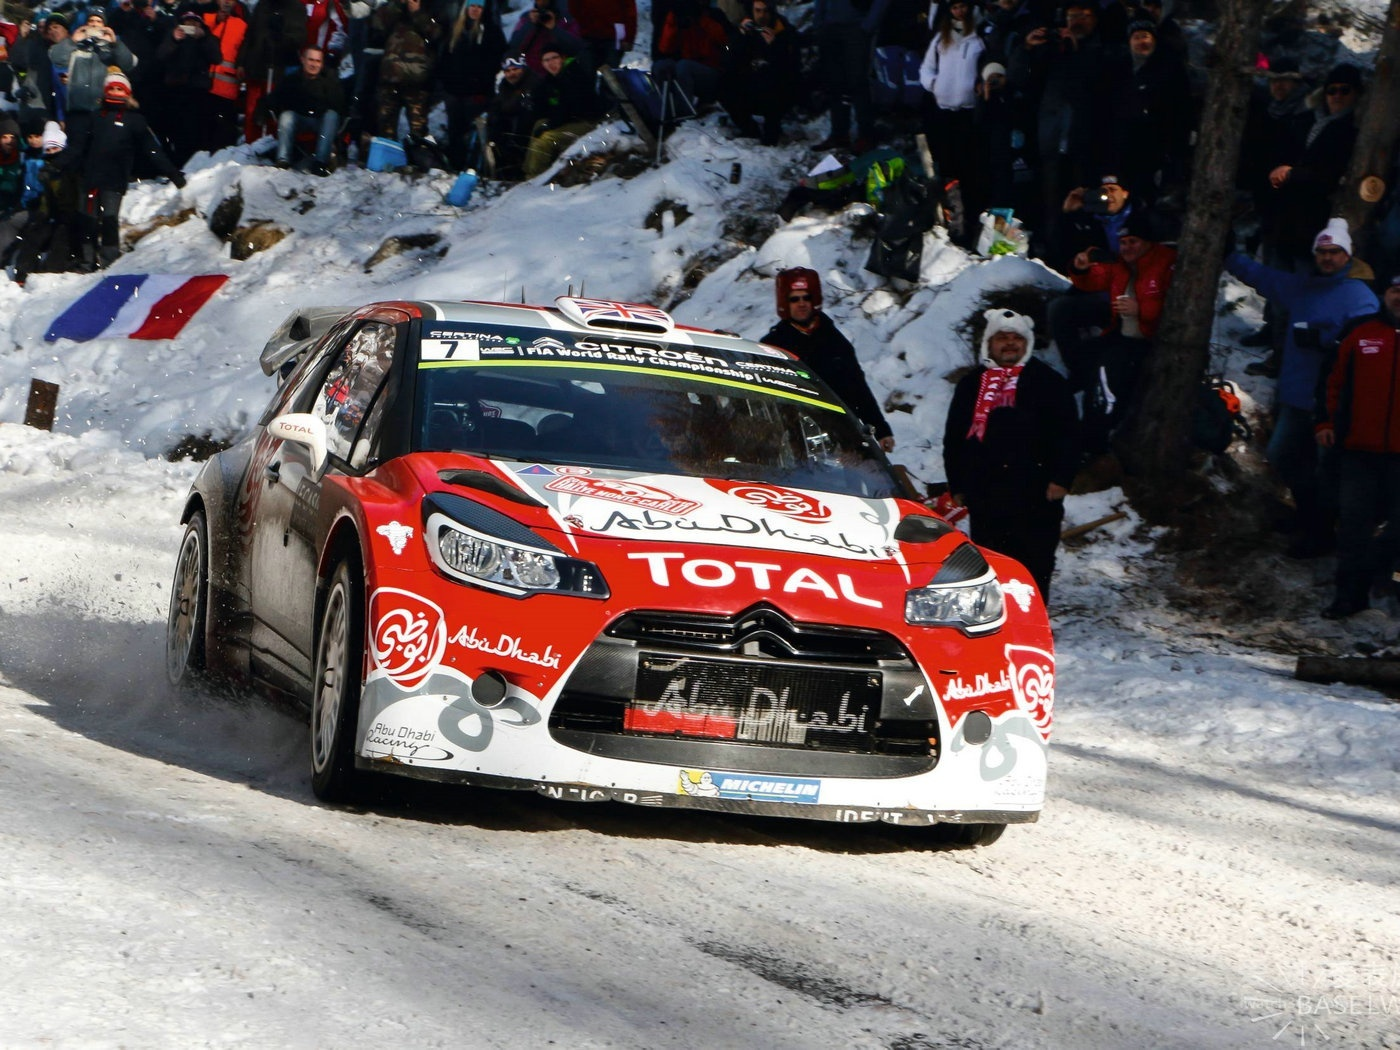racing car: (172, 250, 1067, 896)
